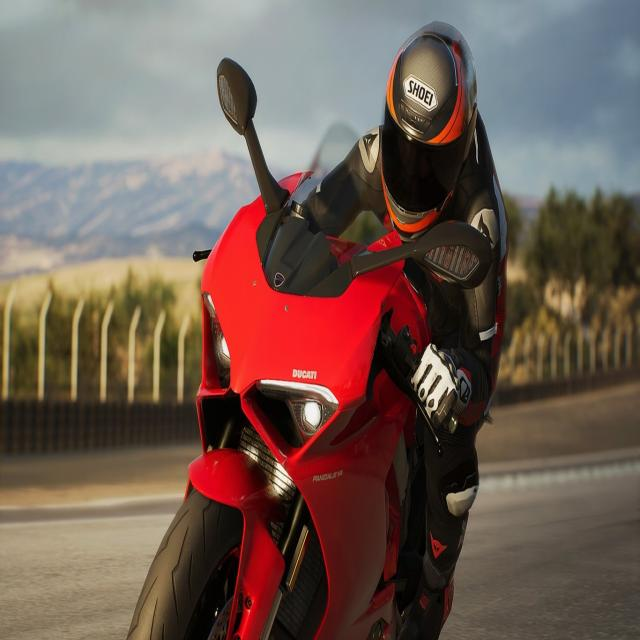MOTORCYCLE: (154, 182, 454, 640)
